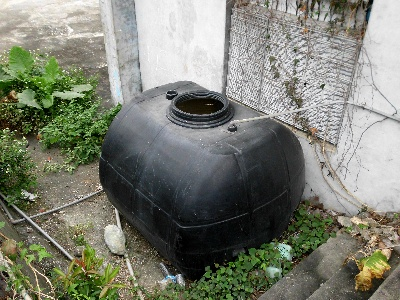bucket: (96, 78, 308, 282)
